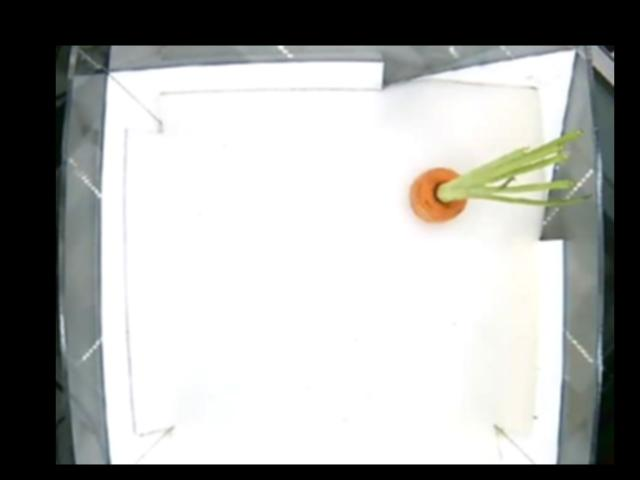Carrot: (407, 155, 522, 221)
